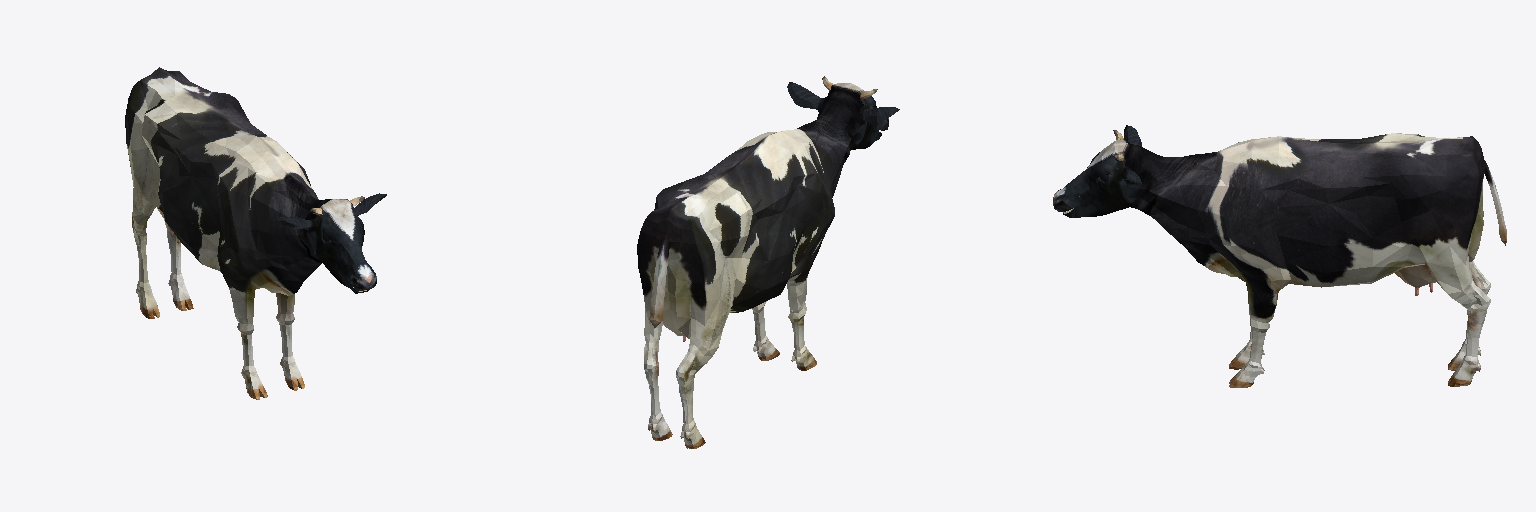
3 views of the same model, side by side, from view 1: azimuth 30°, elevation 25°; view 2: azimuth 150°, elevation 25°; view 3: azimuth 270°, elevation 25° (orthographic).
Parts seen in each view (by area): view 1: ChyairoLowPoly_Cube_002; view 2: ChyairoLowPoly_Cube_002; view 3: ChyairoLowPoly_Cube_002.
Boxes of the visible parts, <box> form: ChyairoLowPoly_Cube_002: <box>125,67,386,399</box>; ChyairoLowPoly_Cube_002: <box>637,76,899,448</box>; ChyairoLowPoly_Cube_002: <box>1053,125,1506,387</box>.
Size of the model in its own units: 0.781 by 1.61 by 2.77.
1 materials, 1 textured.